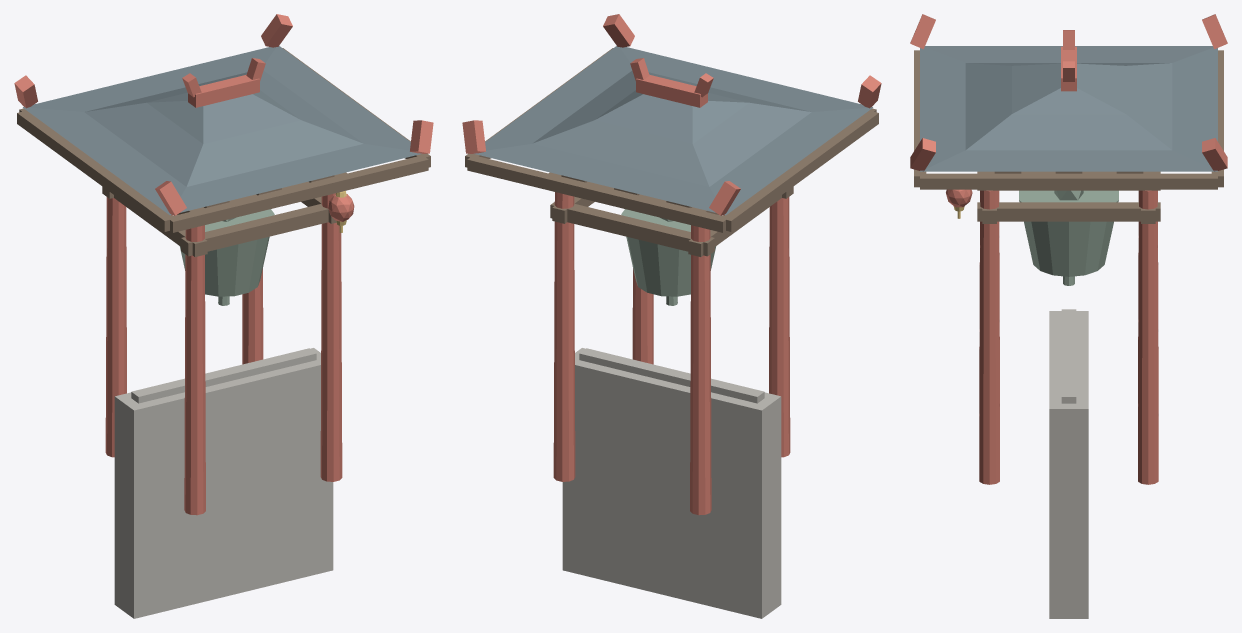
Rendered from SM_Building_BellTower.fbx.
3 views of the same model, side by side, from view 1: azimuth 30°, elevation 25°; view 2: azimuth 150°, elevation 25°; view 3: azimuth 270°, elevation 25° (orthographic).
Parts seen in each view (by area): view 1: BellTower; view 2: BellTower; view 3: BellTower.
Part boxes in pixels (bbox=[...]): BellTower: bbox=[14, 14, 433, 618]; BellTower: bbox=[462, 14, 881, 618]; BellTower: bbox=[910, 14, 1227, 618].
Bounding box in the file's own units: 2.61 × 4.74 × 2.6.
